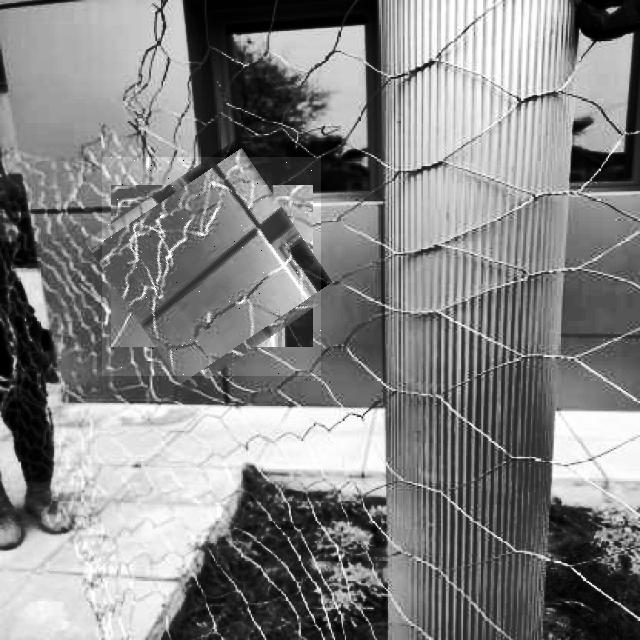anomaly-fence: (102, 157, 321, 376)
